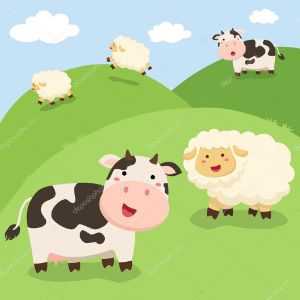cow: (5, 149, 178, 272), (209, 25, 286, 79)
sheep: (182, 126, 296, 223), (105, 34, 154, 77), (29, 67, 75, 108)
